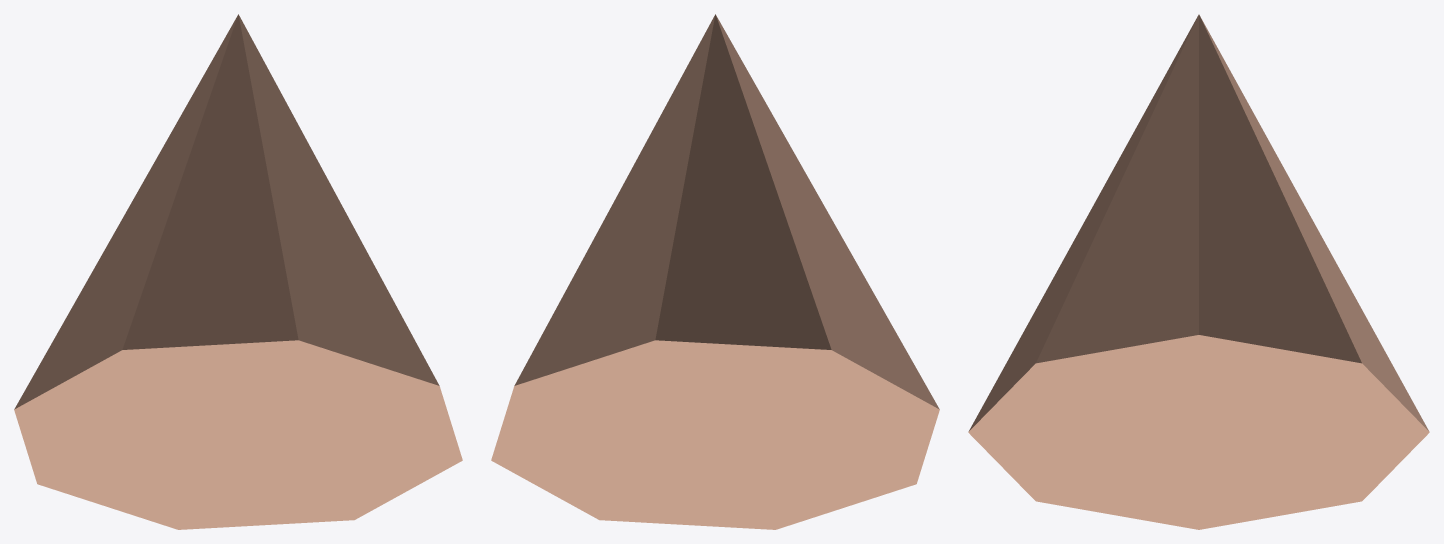
The model's file is flowerpot_01.glb.
The picture shows the model from 3 angles, left to right: view 1: azimuth 30°, elevation 25°; view 2: azimuth 150°, elevation 25°; view 3: azimuth 270°, elevation 25°; orthographic projection.
Visible parts, largest first — view 1: 花盆; view 2: 花盆; view 3: 花盆.
Boxes of the visible parts, x1,y1,x2,y2 form: 花盆: (14, 14, 462, 529); 花盆: (491, 14, 939, 529); 花盆: (968, 14, 1429, 529).
Size of the model in its own units: 1 by 1 by 1.
